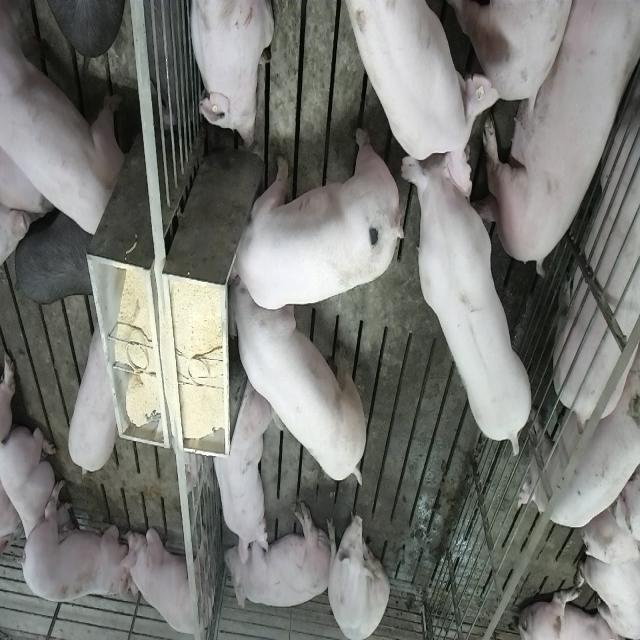Feeding: (221, 125, 396, 311), (229, 278, 371, 494)
Lateral_lying: (472, 0, 636, 274), (224, 500, 332, 612)
Sitting: (127, 512, 217, 640), (325, 503, 389, 638)
Standing: (399, 128, 534, 456), (552, 29, 640, 426), (2, 5, 124, 243), (348, 0, 490, 166), (522, 368, 640, 534), (22, 478, 132, 606), (64, 318, 118, 480), (15, 206, 94, 308)
Sternal_lying: (187, 0, 275, 151), (208, 377, 278, 562), (1, 427, 59, 559)
